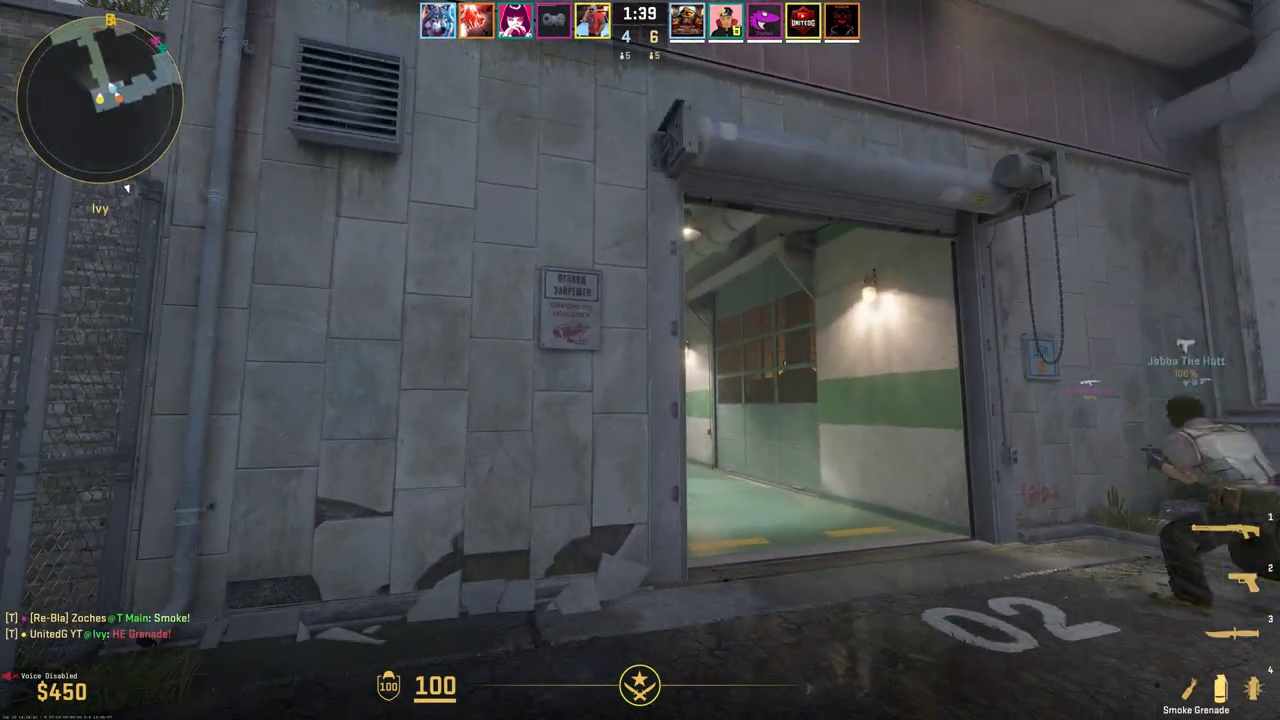Terrorist: (1153, 397, 1280, 614)
